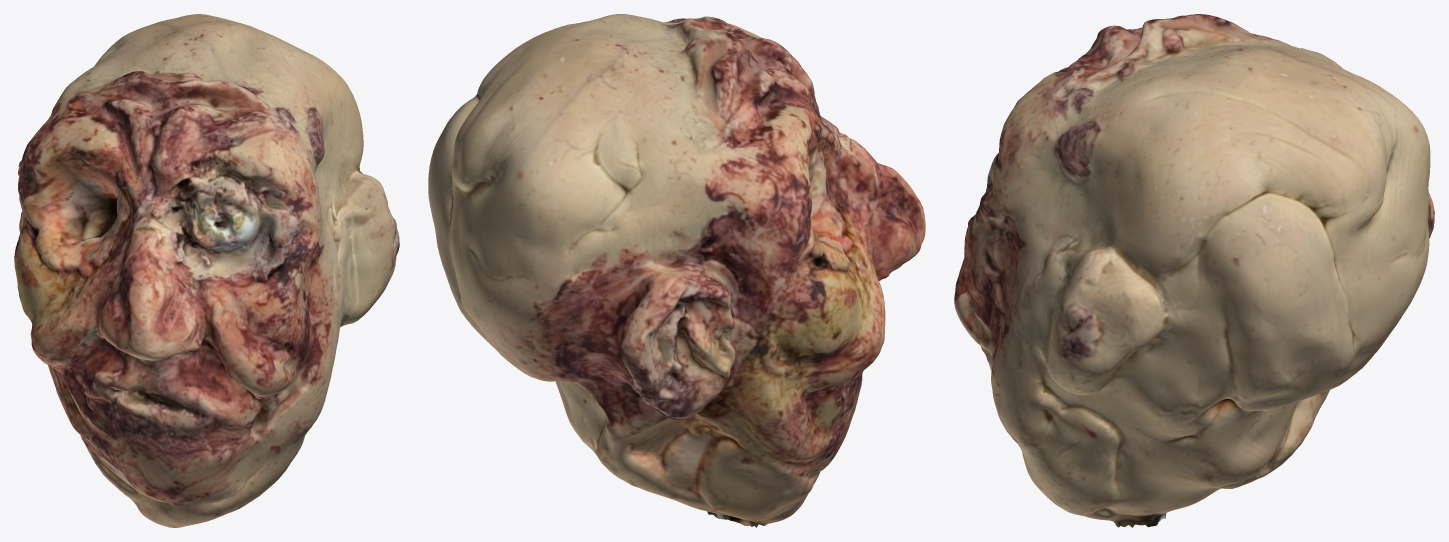
File: frame1Scan_Full.fbx
3 views of the same model, side by side, from view 1: azimuth 30°, elevation 25°; view 2: azimuth 150°, elevation 25°; view 3: azimuth 270°, elevation 25° (orthographic). The views are drawn at different scales.
Visible parts, largest first — view 1: 3DModel; view 2: 3DModel; view 3: 3DModel.
Part boxes in pixels (box(x1,y1,x2,y2)): 3DModel: box(14, 14, 399, 527); 3DModel: box(428, 14, 925, 527); 3DModel: box(954, 14, 1434, 527).
Bounding box in the file's own units: 16.31 × 19.45 × 16.59.
1 material, 1 textured.
